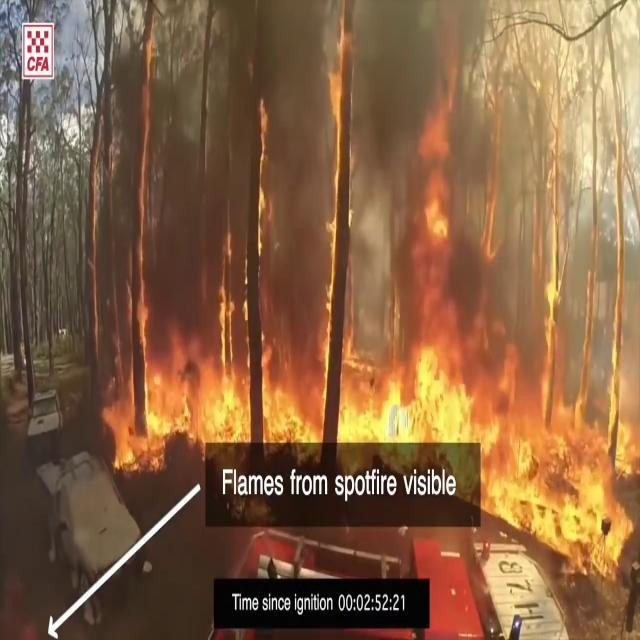Fire: (104, 228, 486, 466), (489, 167, 635, 615)
Smoke: (108, 0, 540, 308)
